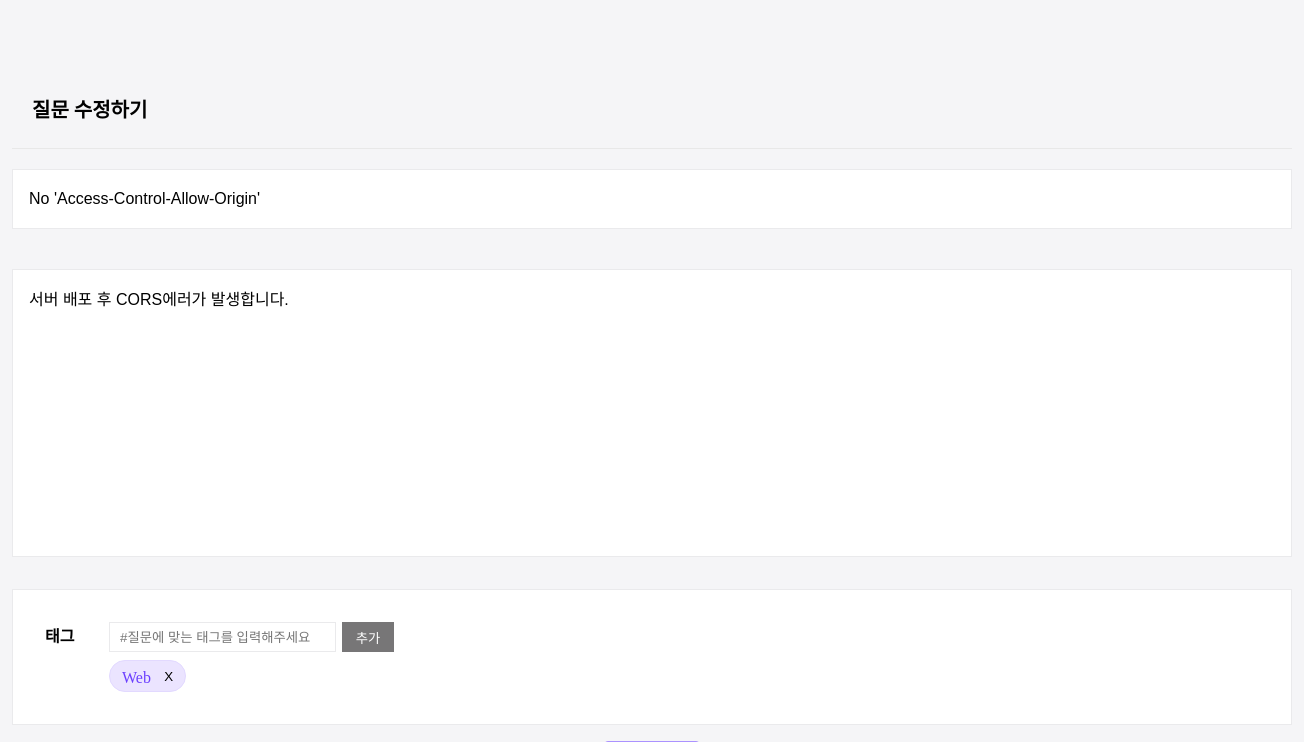
Test: QuestionEditForm › with empty title › renders error message
Clear the field with placeholder "제목을 입력하세요" at (652, 199), box [12,169,1292,229]
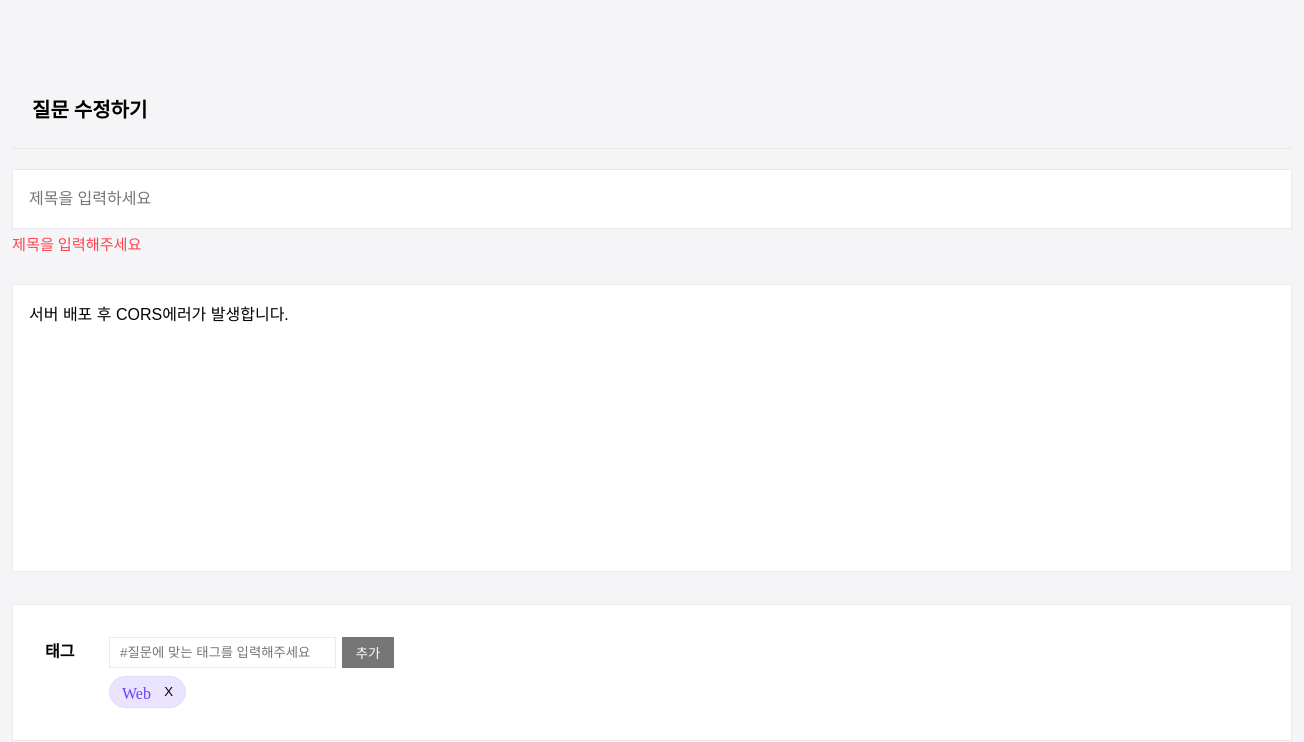
expect the text "제목을 입력해주세요" is shown: met, box [12,236,142,253]
